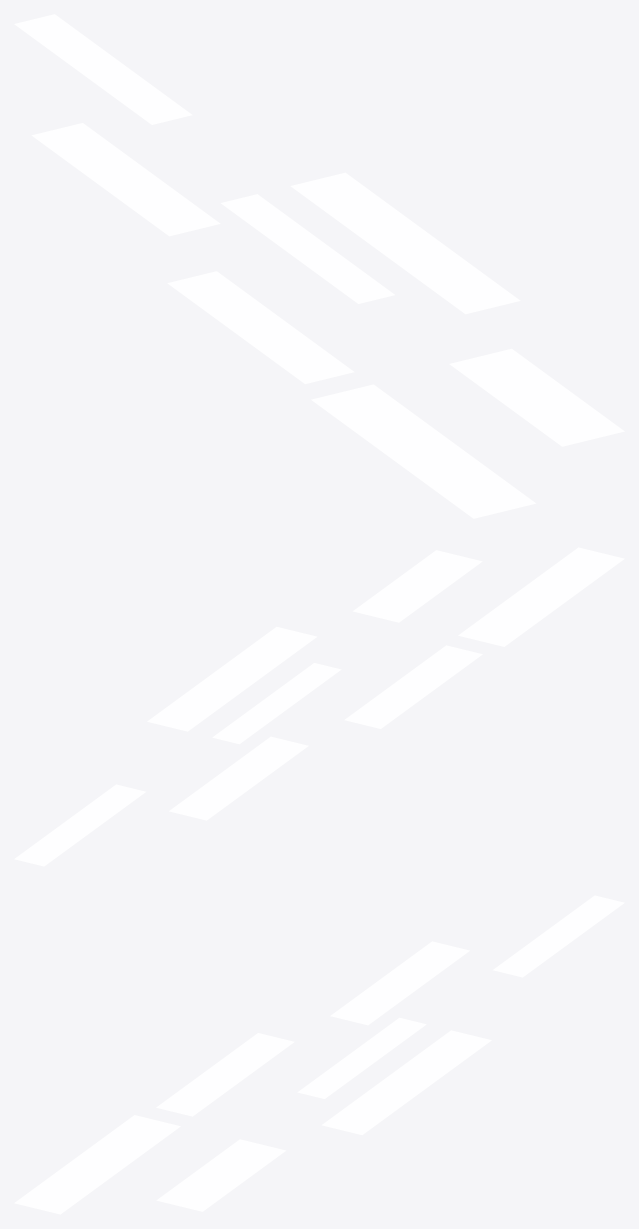
The picture shows the model from 3 angles, top to bottom: view 1: azimuth 30°, elevation 25°; view 2: azimuth 150°, elevation 25°; view 3: azimuth 330°, elevation 25°; orthographic projection. The views are drawn at different scales.
Parts seen in each view (by area): view 1: mesh_0; view 2: mesh_0; view 3: mesh_0.
Part boxes in pixels (bbox=[...]): mesh_0: bbox=[14, 14, 624, 518]; mesh_0: bbox=[14, 547, 624, 866]; mesh_0: bbox=[14, 895, 624, 1214].
Bounding box in the file's own units: 11.74 × 0 × 48.9.
